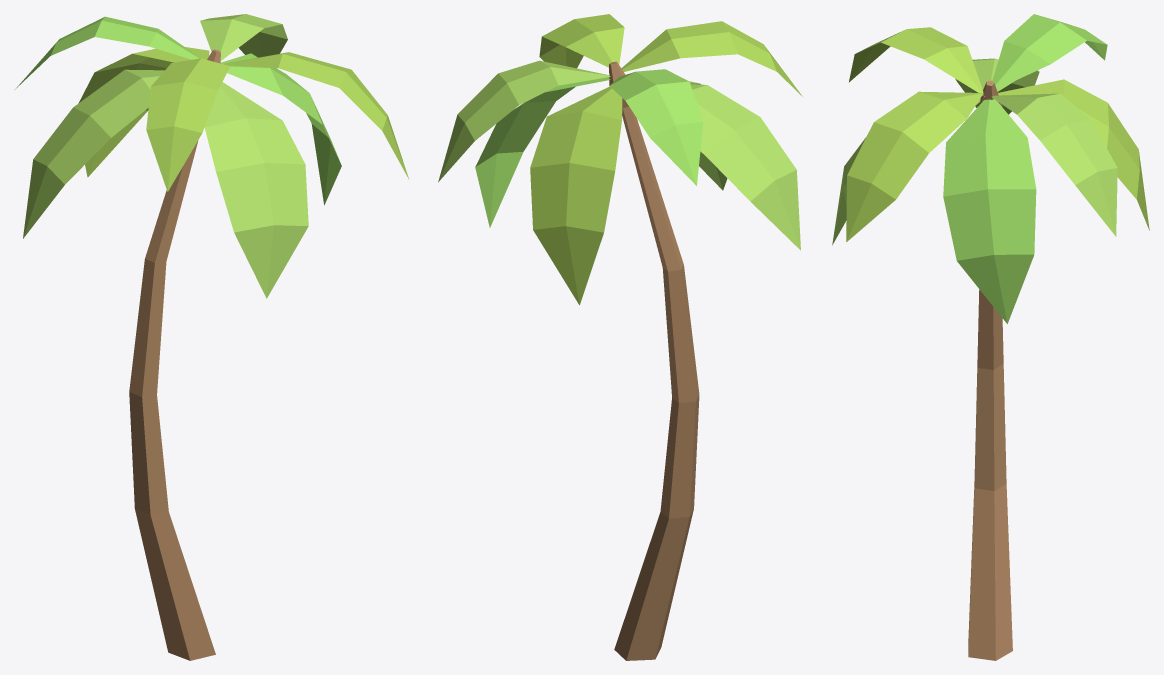
Rendered from Prop_Tree_Palm_1.glb.
The picture shows the model from 3 angles, left to right: view 1: azimuth 30°, elevation 25°; view 2: azimuth 150°, elevation 25°; view 3: azimuth 270°, elevation 25°; orthographic projection. The views are drawn at different scales.
Visible parts, largest first — view 1: Palm_Tree_m_03; view 2: Palm_Tree_m_03; view 3: Palm_Tree_m_03.
Part boxes in pixels (bbox=[...]): Palm_Tree_m_03: bbox=[15, 14, 409, 660]; Palm_Tree_m_03: bbox=[438, 14, 802, 660]; Palm_Tree_m_03: bbox=[832, 14, 1149, 660].
Size of the model in its own units: 1.75 by 3.26 by 1.56.
1 material, 1 textured.
